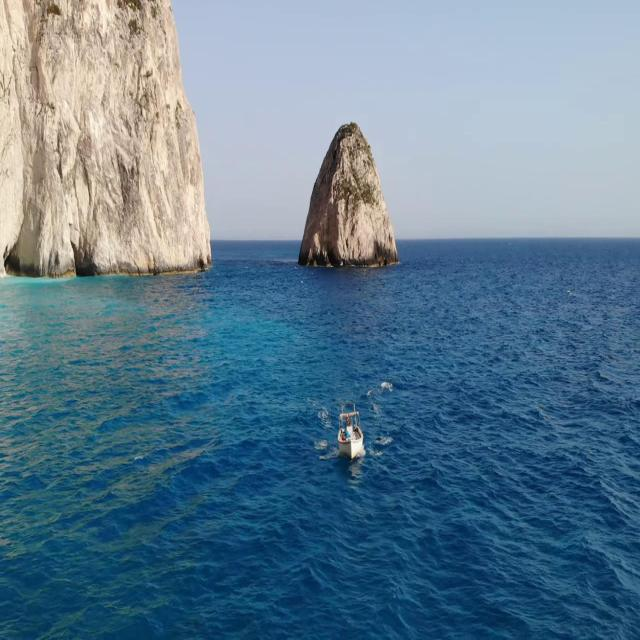boat: (326, 398, 370, 467)
